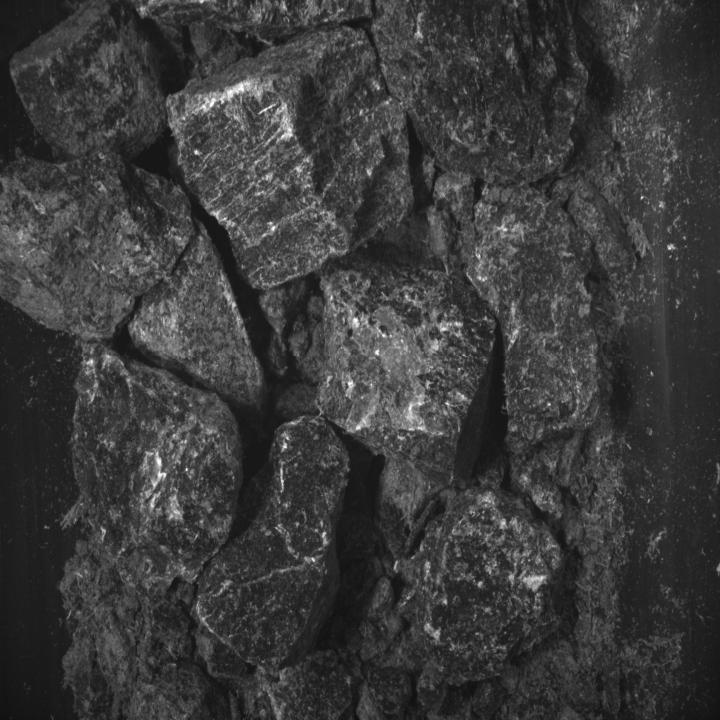stone: (169, 28, 411, 288), (313, 204, 495, 486), (72, 342, 244, 598), (373, 0, 590, 186), (195, 416, 351, 670), (0, 147, 194, 345), (382, 487, 566, 684), (469, 180, 600, 456), (9, 0, 184, 162), (127, 218, 263, 419), (548, 172, 637, 279), (131, 0, 374, 39), (376, 456, 446, 562), (253, 650, 350, 720), (194, 622, 246, 681), (260, 276, 307, 335), (146, 601, 188, 657), (435, 171, 476, 225), (411, 150, 432, 206)
